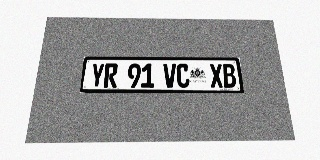1: (141, 63, 154, 88)
9: (127, 63, 141, 88)
B: (222, 64, 237, 88)
C: (176, 64, 190, 88)
R: (103, 63, 118, 88)
V: (163, 64, 176, 88)
X: (209, 64, 224, 88)
Y: (90, 63, 105, 88)
